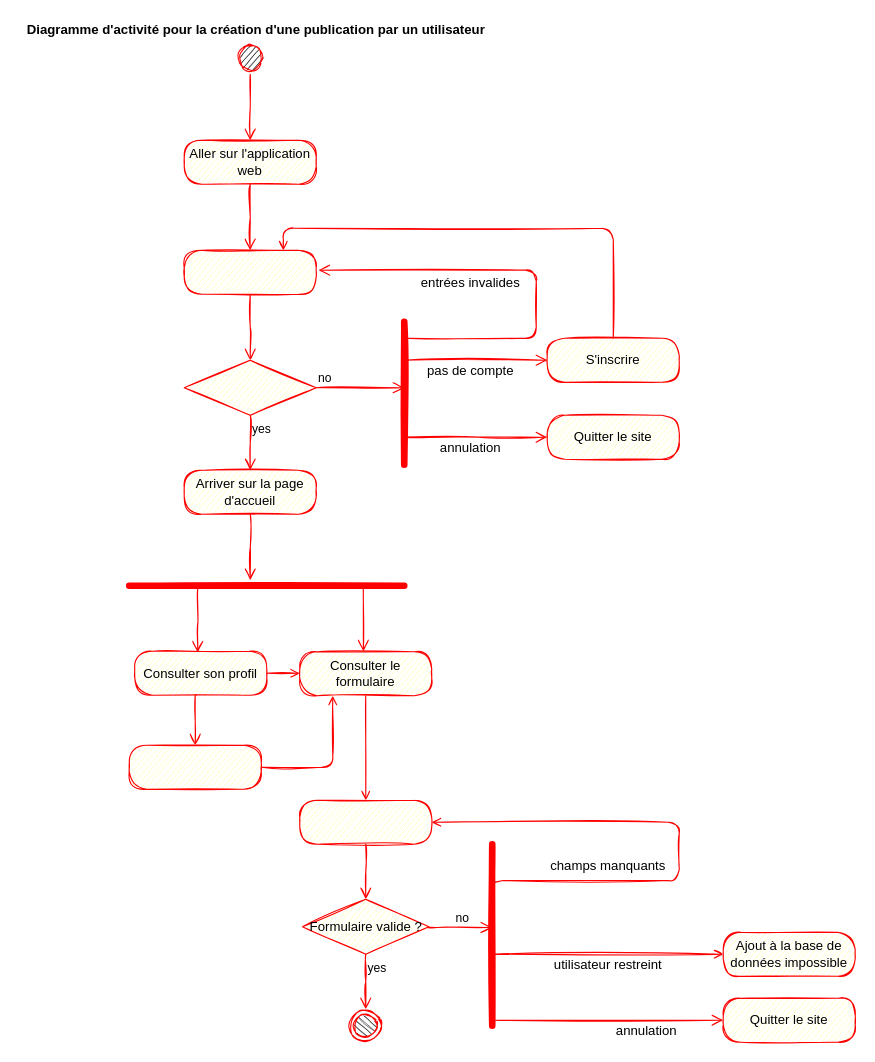
The diagram is 875 pixels wide and 1062 high, and some of its shapes have lost their labels. The centre of each missing label's shape, as x and y in pixels:
"Consulter ses publications" goes at [194,766].
"Données valides ?" goes at [249,387].
"Remplir le formulaire" goes at [365,821].
"Se connecter" goes at [249,271].
